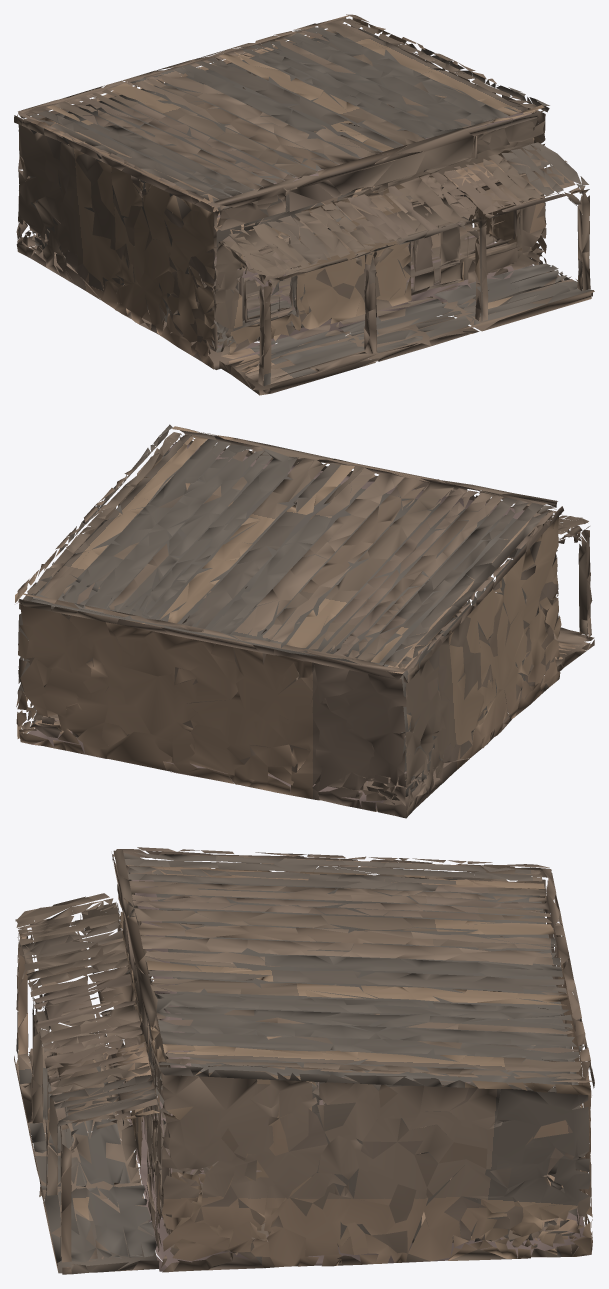
File: store.glb
3 views of the same model, one above another, from view 1: azimuth 30°, elevation 25°; view 2: azimuth 150°, elevation 25°; view 3: azimuth 270°, elevation 25° (orthographic). The views are drawn at different scales.
Visible parts, largest first — view 1: LO.001; view 2: LO.001; view 3: LO.001.
Boxes of the visible parts, box(x1,y1,x2,y2) form: LO.001: box(14, 14, 594, 395); LO.001: box(15, 424, 594, 818); LO.001: box(14, 847, 594, 1274).
Size of the model in its own units: 1.97 by 0.8197 by 2.04.
Materials: 1 (1 with a texture image).
